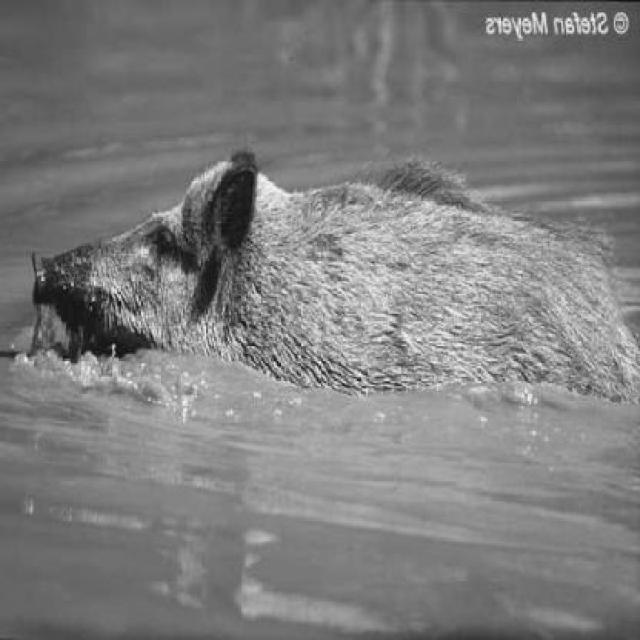Boar: (18, 122, 634, 484)
